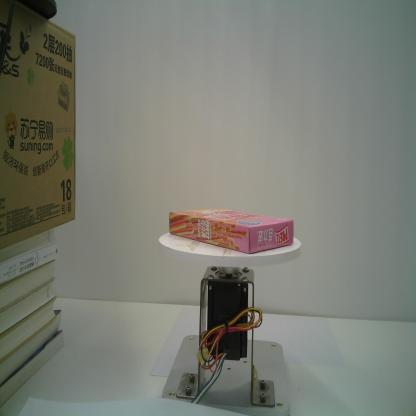Dessert: (169, 208, 294, 255)
